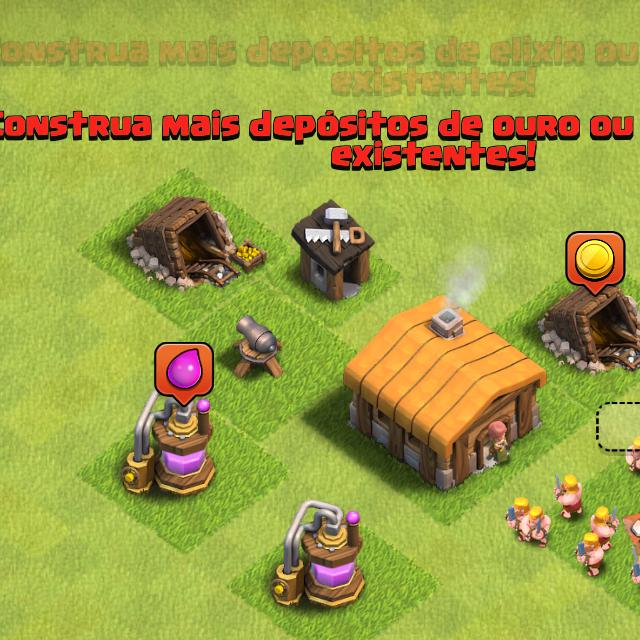Canhao: (230, 311, 286, 386)
FullCoin: (566, 230, 626, 298)
FullElixir: (156, 343, 216, 407)
